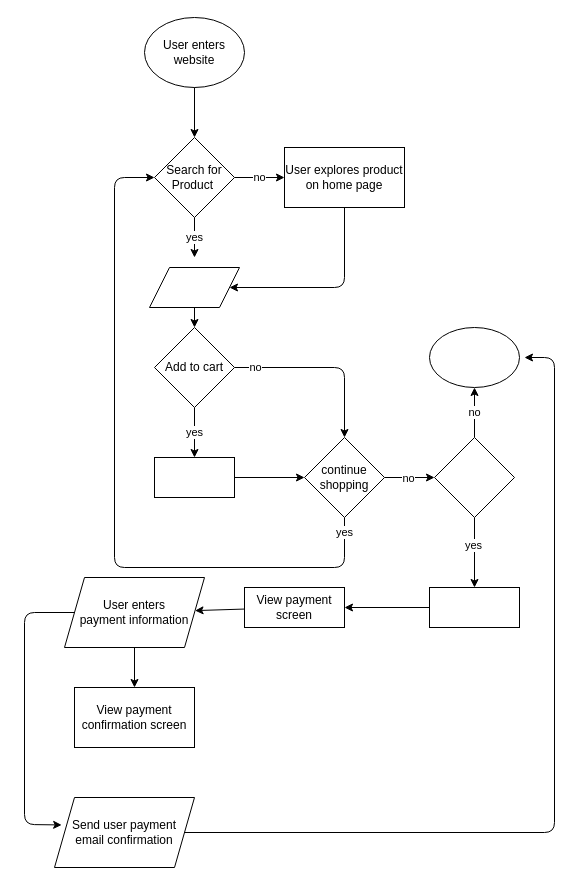
This 580x885 diagram has some shape labels left out. Each missing label, with the centre of its shape:
"Add to cart confirmation" goes at point 194,477.
"Checkout" goes at point 474,477.
"Product is displayed" goes at point 194,287.
"User leaves website" goes at point 474,357.
"View cart screen" goes at point 474,607.
